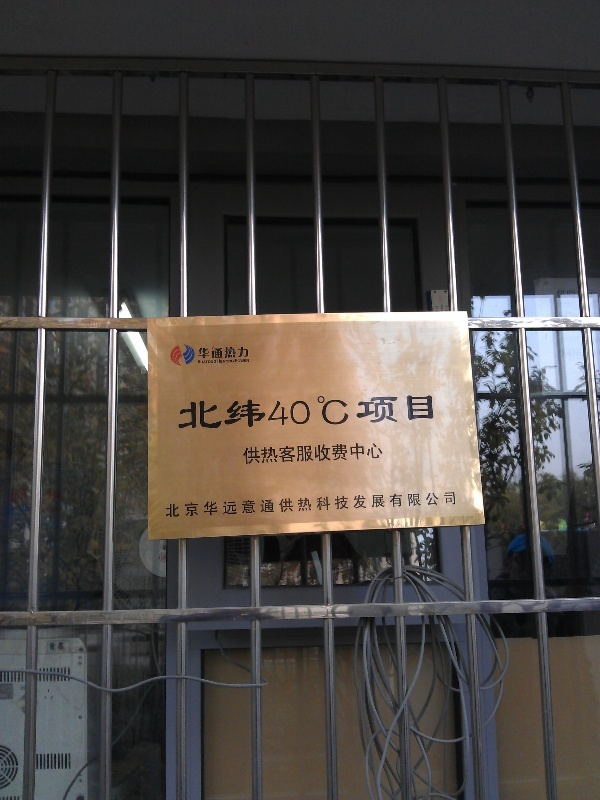text: (193, 393, 208, 430), (209, 393, 224, 430), (225, 393, 240, 430), (241, 393, 256, 430), (257, 393, 272, 430), (273, 393, 288, 430), (289, 393, 304, 430), (305, 393, 320, 430), (321, 393, 336, 430), (337, 393, 352, 430), (353, 393, 368, 430), (369, 393, 384, 430), (385, 393, 400, 430), (401, 393, 416, 430), (417, 393, 432, 430), (178, 393, 192, 430), (177, 490, 192, 518), (193, 490, 208, 518), (209, 490, 224, 518), (225, 490, 240, 518), (241, 490, 256, 518), (257, 490, 272, 518), (273, 490, 288, 518), (289, 490, 304, 518), (305, 490, 320, 518), (321, 490, 336, 518), (337, 490, 352, 518), (353, 490, 368, 518), (369, 490, 384, 518), (385, 490, 400, 518), (401, 490, 416, 518), (417, 490, 432, 518), (433, 490, 448, 518), (257, 442, 272, 465), (273, 442, 288, 465), (289, 442, 304, 465), (305, 442, 320, 465), (321, 442, 336, 465), (337, 442, 352, 465), (353, 442, 368, 465), (369, 442, 384, 465), (165, 490, 176, 518), (243, 442, 256, 465), (449, 490, 459, 518), (209, 347, 224, 360), (225, 347, 240, 360), (198, 347, 208, 360), (241, 347, 249, 360), (433, 393, 435, 430), (198, 359, 208, 365), (225, 359, 235, 364), (209, 359, 217, 365), (241, 359, 250, 363), (217, 359, 224, 364), (235, 359, 240, 363)
